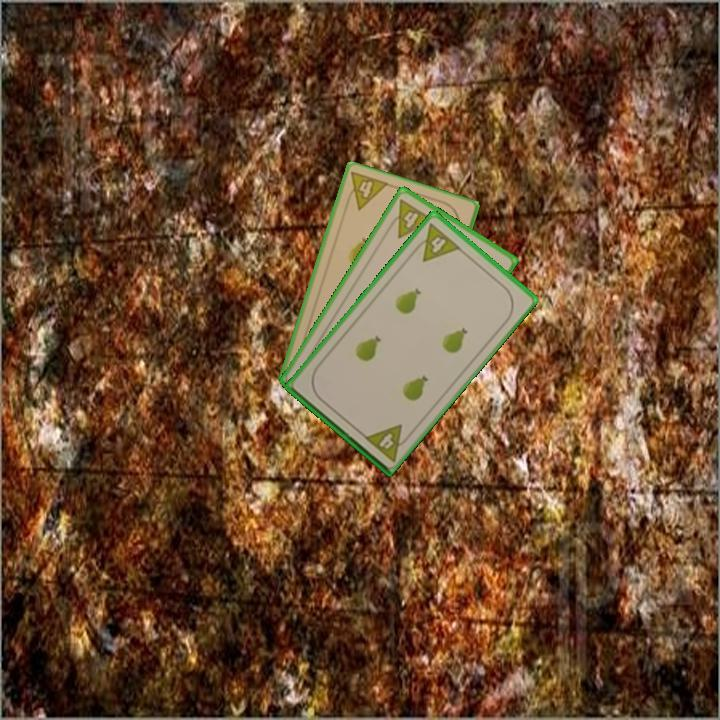4p: (383, 196, 437, 241), (409, 220, 463, 264), (360, 421, 414, 464), (341, 168, 391, 213)
